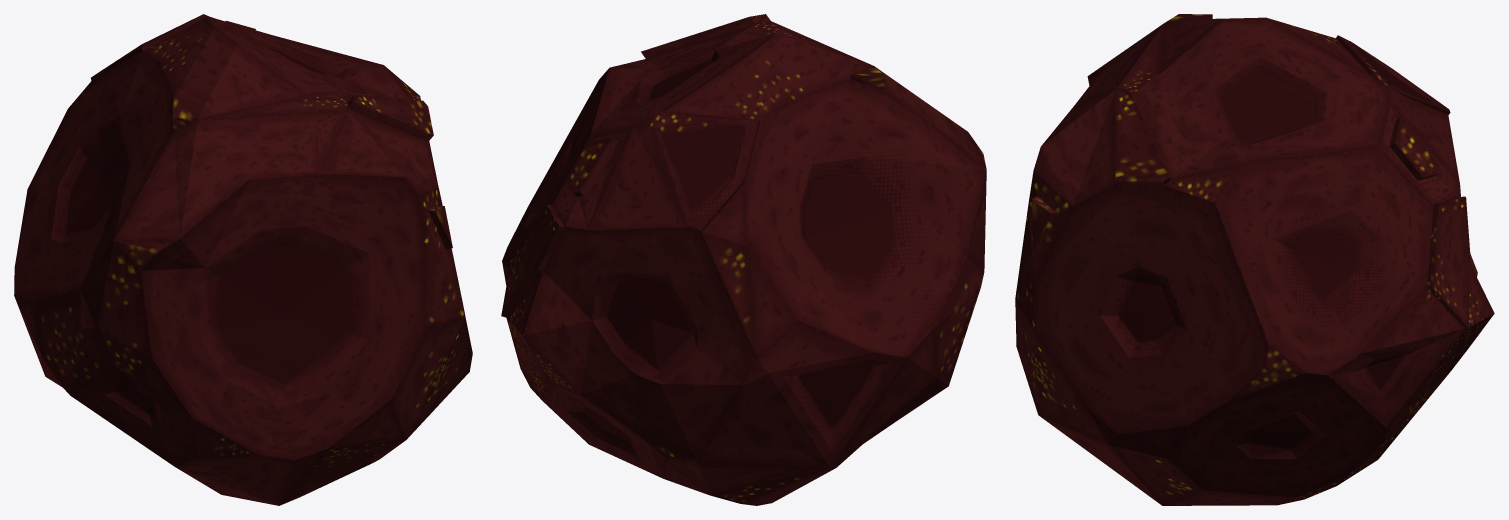
The model's file is asteroide.fbx.
The picture shows the model from 3 angles, left to right: view 1: azimuth 30°, elevation 25°; view 2: azimuth 150°, elevation 25°; view 3: azimuth 270°, elevation 25°; orthographic projection. The views are drawn at different scales.
Visible parts, largest first — view 1: Asteroide; view 2: Asteroide; view 3: Asteroide.
Boxes of the visible parts, bbox=[...] form: Asteroide: bbox=[14, 14, 472, 505]; Asteroide: bbox=[501, 14, 986, 505]; Asteroide: bbox=[1015, 14, 1494, 505].
Bounding box in the file's own units: 17845 × 19055 × 17891.
